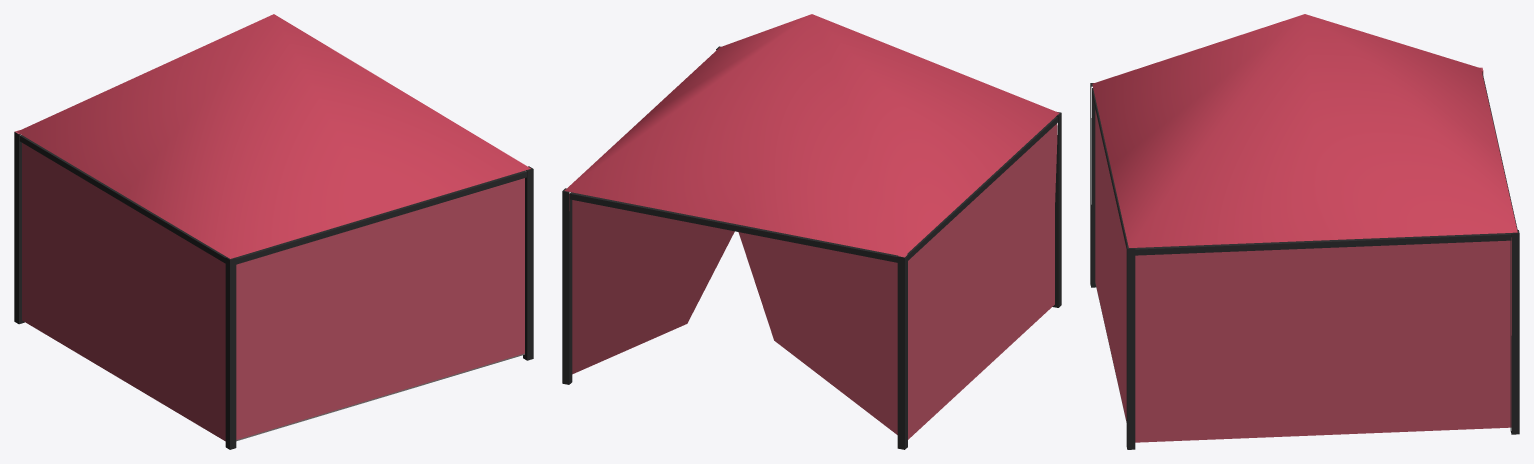
File: canopy_4_1_lev2.glb
3 renders of one model, left to right at view 1: azimuth 30°, elevation 25°; view 2: azimuth 150°, elevation 25°; view 3: azimuth 270°, elevation 25°, orthographic. The views are drawn at different scales.
Parts seen in each view (by area): view 1: canopy_4_1_lev2; view 2: canopy_4_1_lev2; view 3: canopy_4_1_lev2.
Part boxes in pixels (x1,y1,x2,y2): canopy_4_1_lev2: (14,14,533,449); canopy_4_1_lev2: (562,14,1061,449); canopy_4_1_lev2: (1090,14,1519,449).
Bounding box in the file's own units: 12.02 × 10.67 × 12.02.
Materials: 1 (1 with a texture image).
